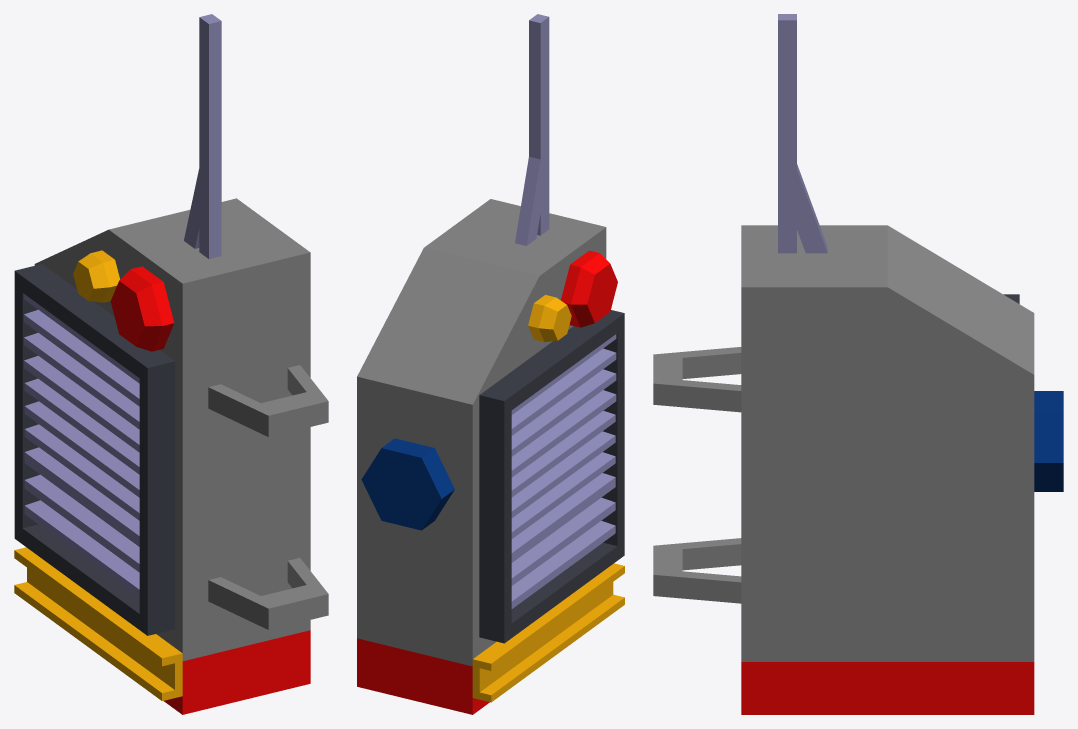
File: spaceship_radio.glb
The picture shows the model from 3 angles, left to right: view 1: azimuth 30°, elevation 25°; view 2: azimuth 150°, elevation 25°; view 3: azimuth 270°, elevation 25°; orthographic projection. The views are drawn at different scales.
Parts seen in each view (by area): view 1: block_half, block_corner_small, sheet_blockWide (×3), columns_small (×2), gear_bars, detailRail, post_wallSmall, detail_bolt% (×2); view 2: block_corner_small, block_half, sheet_blockWide (×3), columns_small (×2), detailRail, hexagon, post_wallSmall, detail_bolt% (×2); view 3: block_half, block_corner_small, gear_bars, post_wallSmall, hexagon.
Part boxes in pixels (x1=…): block_half: x1=156, y1=427, x2=310, y2=714; block_corner_small: x1=34, y1=198, x2=310, y2=446; sheet_blockWide (×3): x1=24, y1=294, x2=139, y2=597; columns_small (×2): x1=14, y1=264, x2=175, y2=635; gear_bars: x1=208, y1=365, x2=328, y2=629; detailRail: x1=14, y1=547, x2=182, y2=700; post_wallSmall: x1=184, y1=14, x2=221, y2=258; detail_bolt% (×2): x1=73, y1=250, x2=174, y2=351; block_corner_small: x1=357, y1=199, x2=606, y2=484; block_half: x1=357, y1=456, x2=496, y2=714; sheet_blockWide (×3): x1=511, y1=334, x2=616, y2=608; columns_small (×2): x1=479, y1=310, x2=624, y2=643; detailRail: x1=472, y1=563, x2=624, y2=702; hexagon: x1=361, y1=438, x2=454, y2=530; post_wallSmall: x1=515, y1=14, x2=549, y2=245; detail_bolt% (×2): x1=528, y1=250, x2=617, y2=341; block_half: x1=741, y1=462, x2=1034, y2=714; block_corner_small: x1=741, y1=225, x2=1034, y2=462; gear_bars: x1=653, y1=347, x2=741, y2=603; post_wallSmall: x1=778, y1=14, x2=827, y2=253; hexagon: x1=1034, y1=391, x2=1063, y2=491.
Size of the model in its own units: 0.608 by 2.49 by 1.4.
